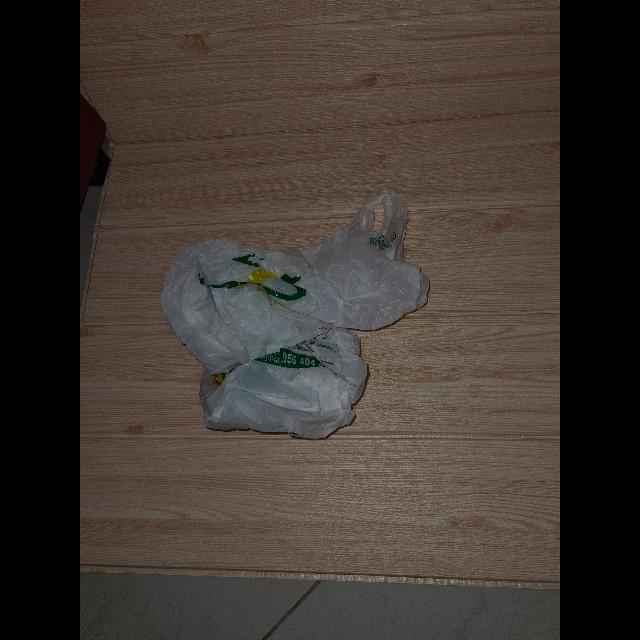plastic_bag: (166, 187, 428, 437)
